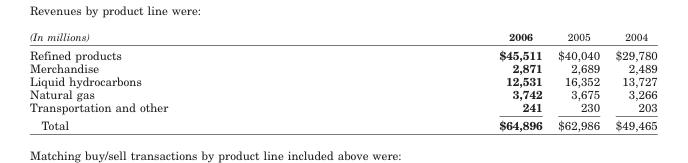table: (28, 29, 656, 131)
table column: (28, 29, 332, 131), (332, 29, 549, 131), (549, 29, 607, 131), (607, 29, 656, 131)
table column header: (28, 29, 656, 44)
table row: (28, 44, 656, 61), (28, 99, 656, 115), (28, 115, 656, 131), (28, 29, 656, 44), (28, 61, 656, 74), (28, 74, 656, 87), (28, 87, 656, 99)
